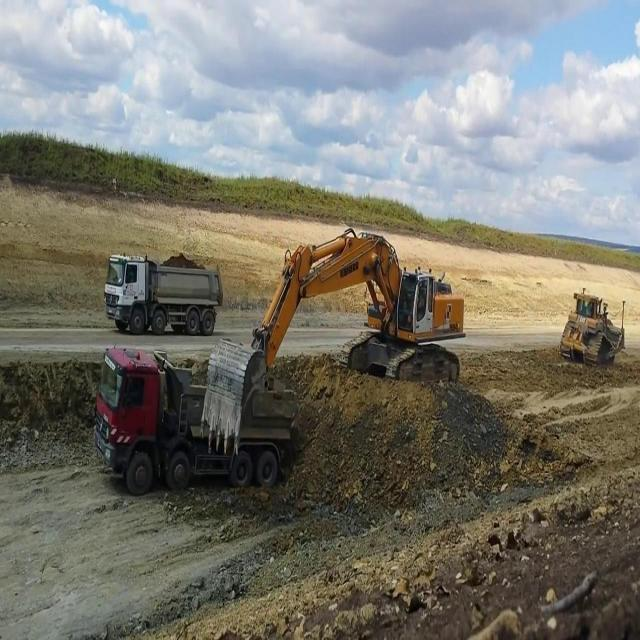Dump Truck: (93, 348, 295, 486), (104, 251, 222, 337)
Excavator: (200, 226, 466, 458)
Loader: (560, 285, 627, 369)
